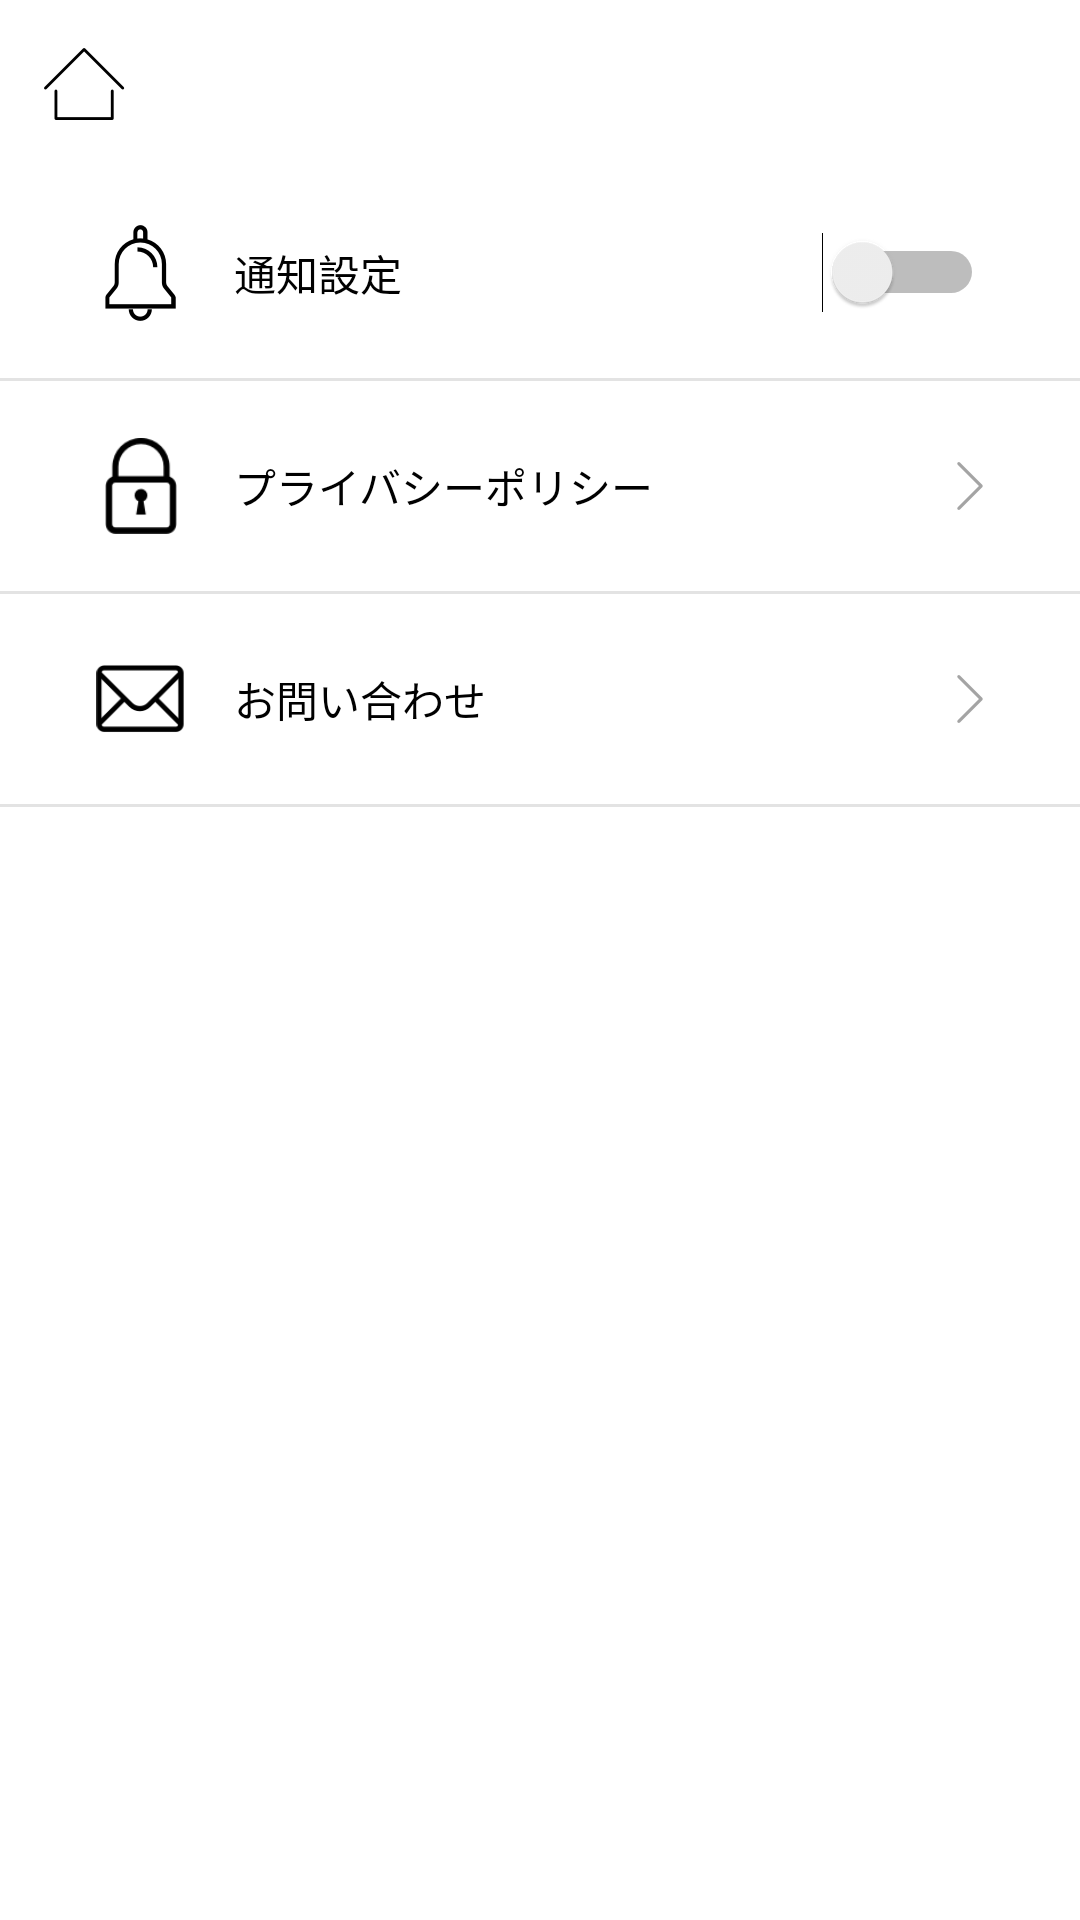

Where icons sit on this 1080 x 1920 app screen, as (x1, y1, x2, y2):
arrow right: (957, 462, 983, 510), (957, 675, 983, 723)
home: (44, 48, 124, 120)
lock: (105, 438, 177, 534)
mail: (96, 665, 184, 732)
notice: (105, 225, 176, 321)
